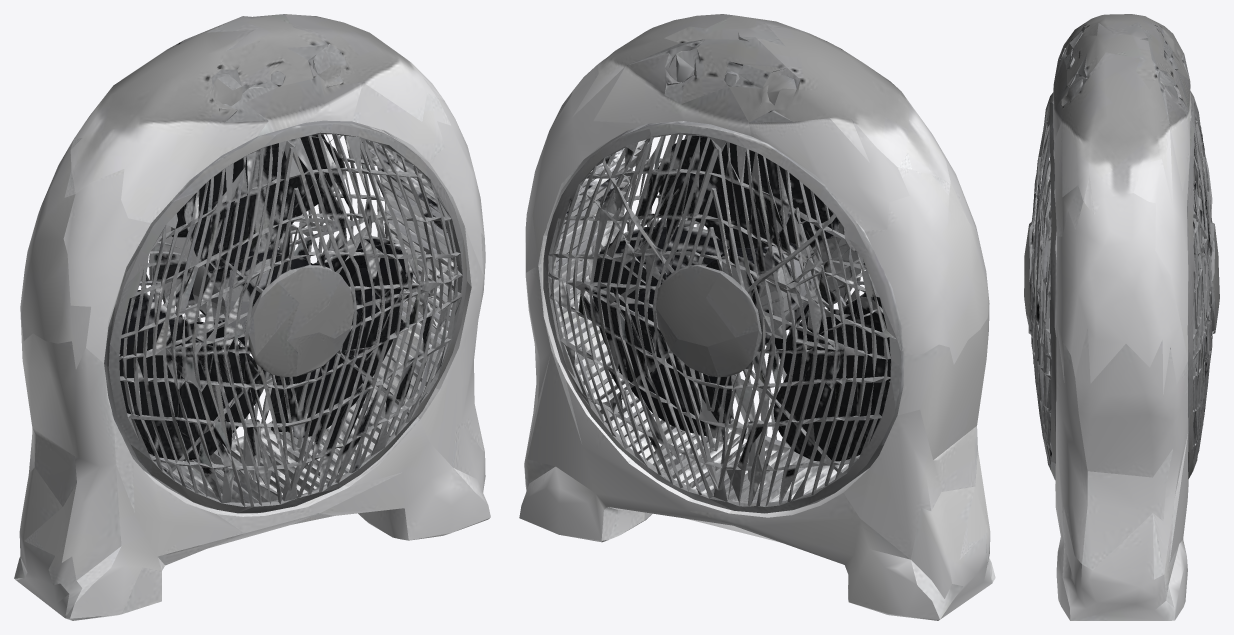
The model's file is hamilton-beach-fans-hem-607.glb.
3 views of the same model, side by side, from view 1: azimuth 30°, elevation 25°; view 2: azimuth 150°, elevation 25°; view 3: azimuth 270°, elevation 25° (orthographic). The views are drawn at different scales.
Bounding box in the file's own units: 1.64 × 1.9 × 0.6852.
Materials: 1 (1 with a texture image).
